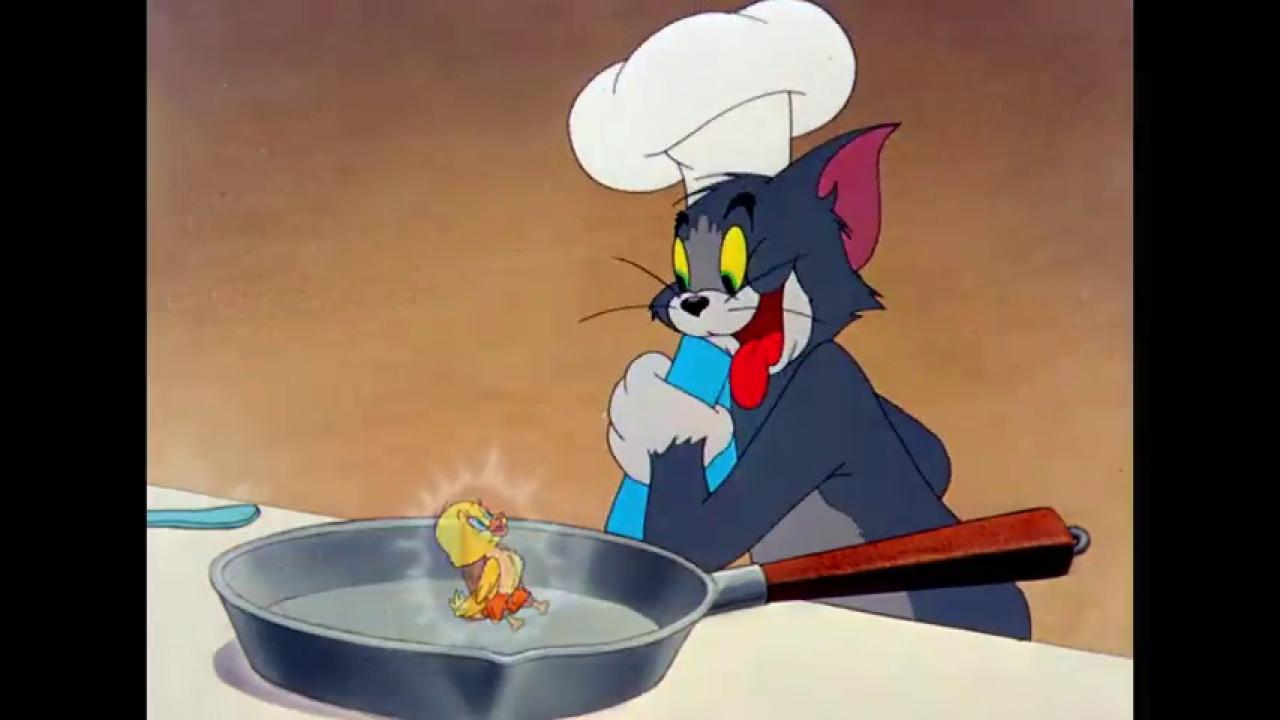Tom: (604, 120, 1033, 641)
